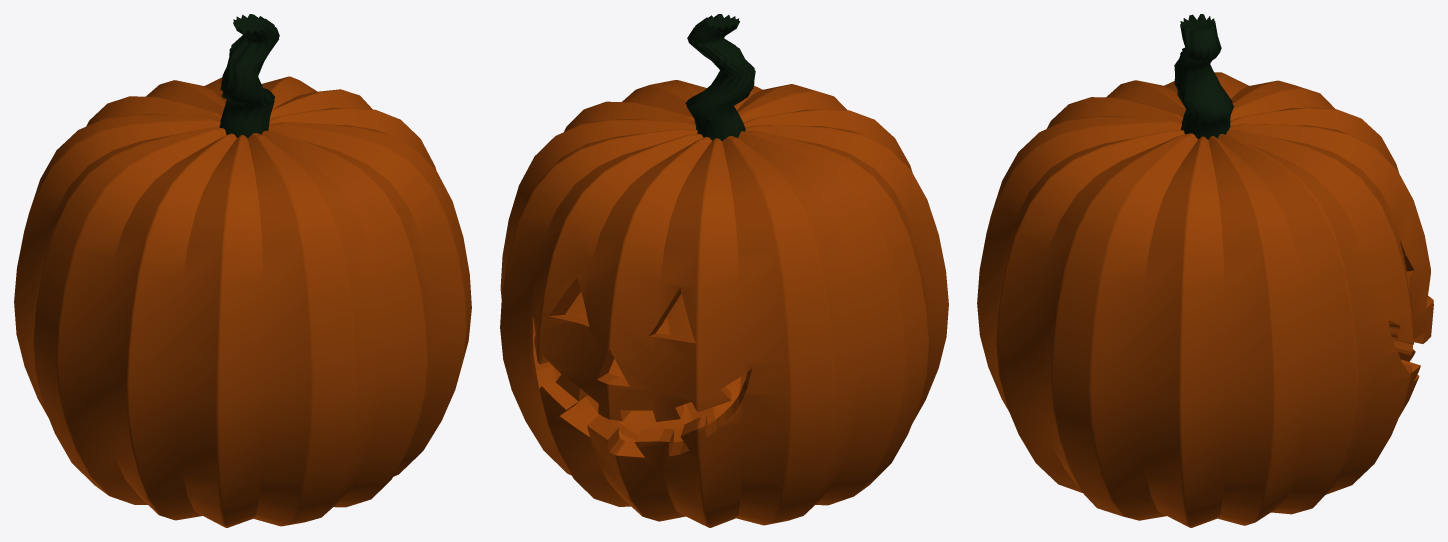
File: Jack-O-Lantern.obj
3 views of the same model, side by side, from view 1: azimuth 30°, elevation 25°; view 2: azimuth 150°, elevation 25°; view 3: azimuth 270°, elevation 25° (orthographic).
Parts seen in each view (by area): view 1: pSphere2, pCylinder1; view 2: pSphere2, pCylinder1; view 3: pSphere2, pCylinder1.
Part boxes in pixels (bbox=[...]): pSphere2: bbox=[14, 76, 471, 527]; pCylinder1: bbox=[219, 14, 279, 138]; pSphere2: bbox=[500, 80, 948, 527]; pCylinder1: bbox=[685, 14, 755, 141]; pSphere2: bbox=[977, 72, 1433, 527]; pCylinder1: bbox=[1174, 14, 1233, 139].
Size of the model in its own units: 16.94 by 18.92 by 17.03.
